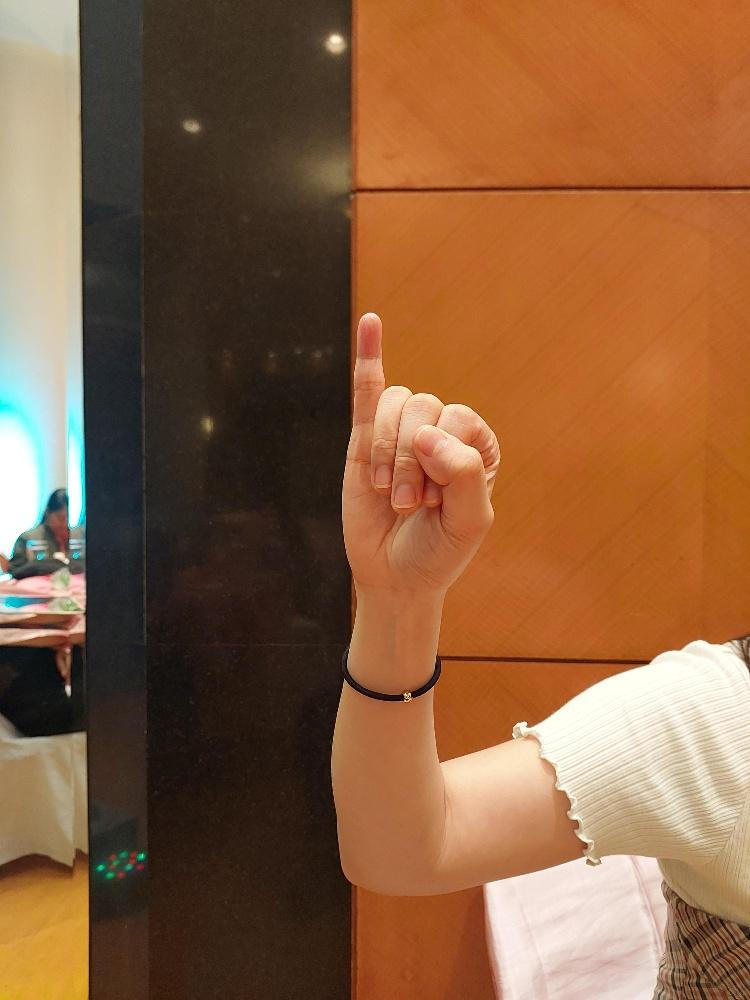i: (338, 310, 503, 596)
